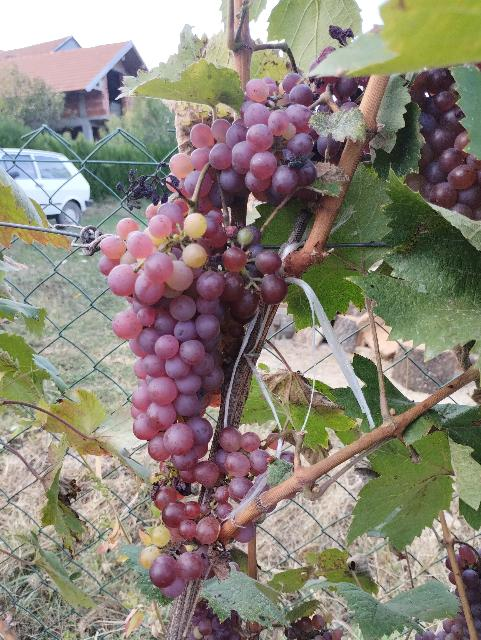grapes: (100, 198, 286, 599), (170, 79, 366, 208)
